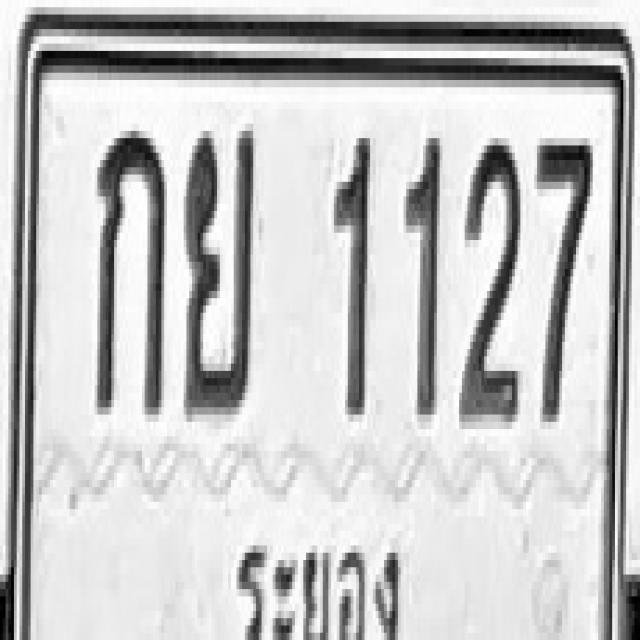1: (332, 131, 372, 414), (404, 135, 439, 418)
10GorGai: (95, 123, 164, 414)
2: (459, 131, 520, 422)
43YorYak: (182, 123, 255, 414)
7: (536, 131, 591, 422)
Rayong: (225, 509, 404, 640)
